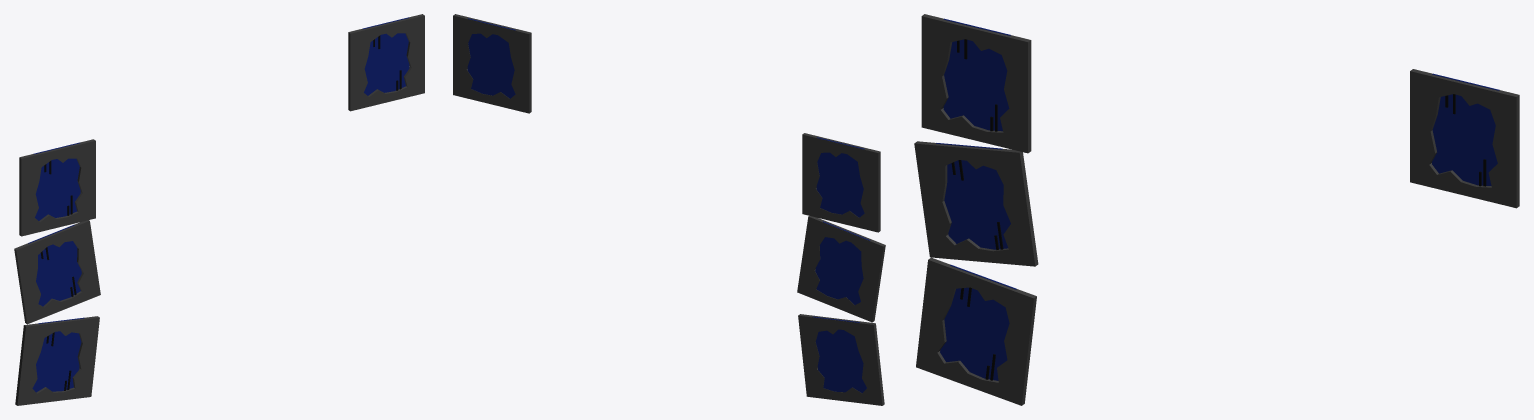
Rendered from hole.obj.
The picture shows the model from 3 angles, left to right: view 1: azimuth 30°, elevation 25°; view 2: azimuth 150°, elevation 25°; view 3: azimuth 330°, elevation 25°; orthographic projection. The views are drawn at different scales.
Parts seen in each view (by area): view 1: Hole_Main; view 2: Hole_Main; view 3: Hole_Main.
Boxes of the visible parts, x1,y1,x2,y2 form: Hole_Main: (14, 14, 424, 405); Hole_Main: (453, 14, 885, 405); Hole_Main: (914, 14, 1519, 405).
Bounding box in the file's own units: 1.11 × 0.7554 × 0.0383.
